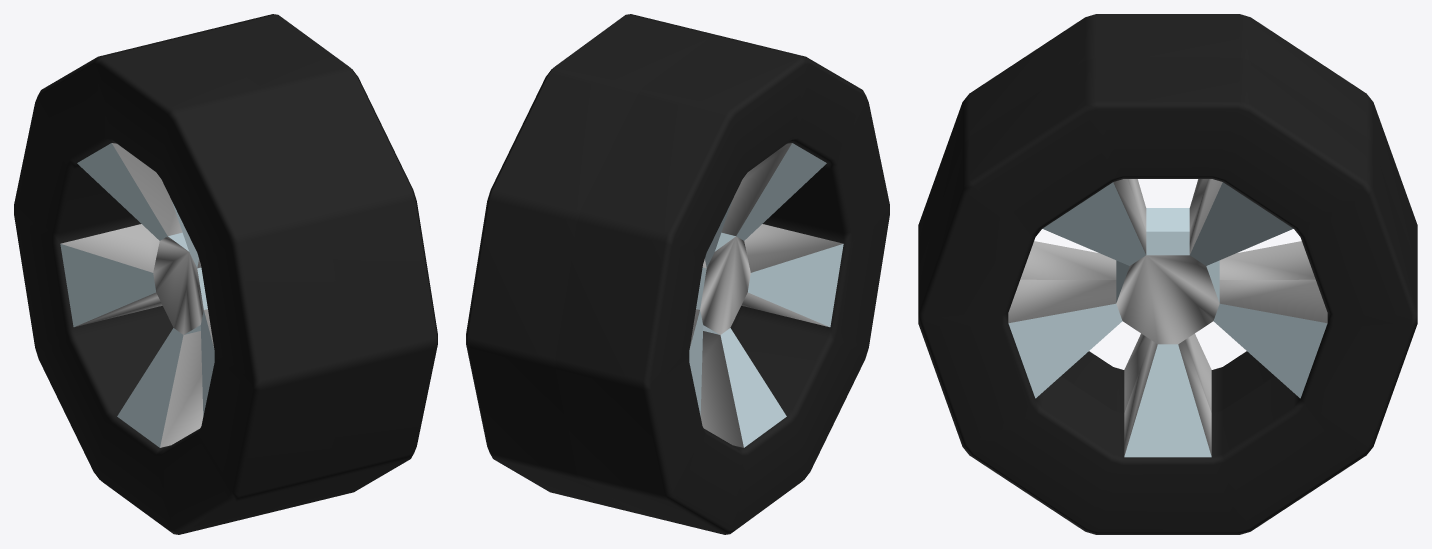
Rendered from Wheel.fbx.
3 renders of one model, left to right at view 1: azimuth 30°, elevation 25°; view 2: azimuth 150°, elevation 25°; view 3: azimuth 270°, elevation 25°, orthographic. The views are drawn at different scales.
Parts seen in each view (by area): view 1: Wheel-01; view 2: Wheel-01; view 3: Wheel-01.
Boxes of the visible parts, bbox=[...] form: Wheel-01: bbox=[14, 14, 437, 534]; Wheel-01: bbox=[466, 14, 889, 534]; Wheel-01: bbox=[918, 14, 1417, 534].
Size of the model in its own units: 42.95 by 94.2 by 98.31.
